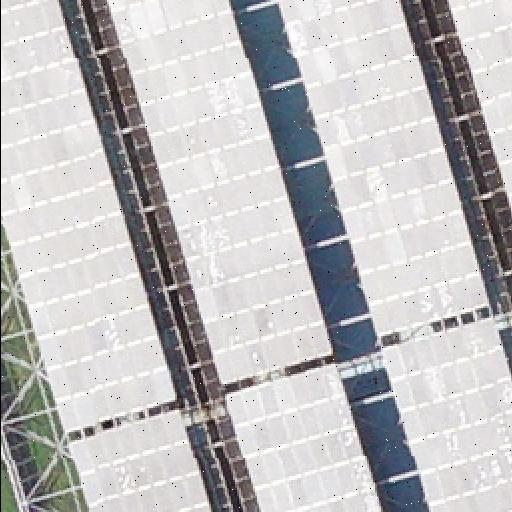solar-panel: (108, 0, 332, 384), (0, 0, 180, 432), (276, 0, 488, 336), (377, 316, 511, 512), (221, 360, 379, 512), (67, 408, 213, 512), (448, 0, 512, 218)
